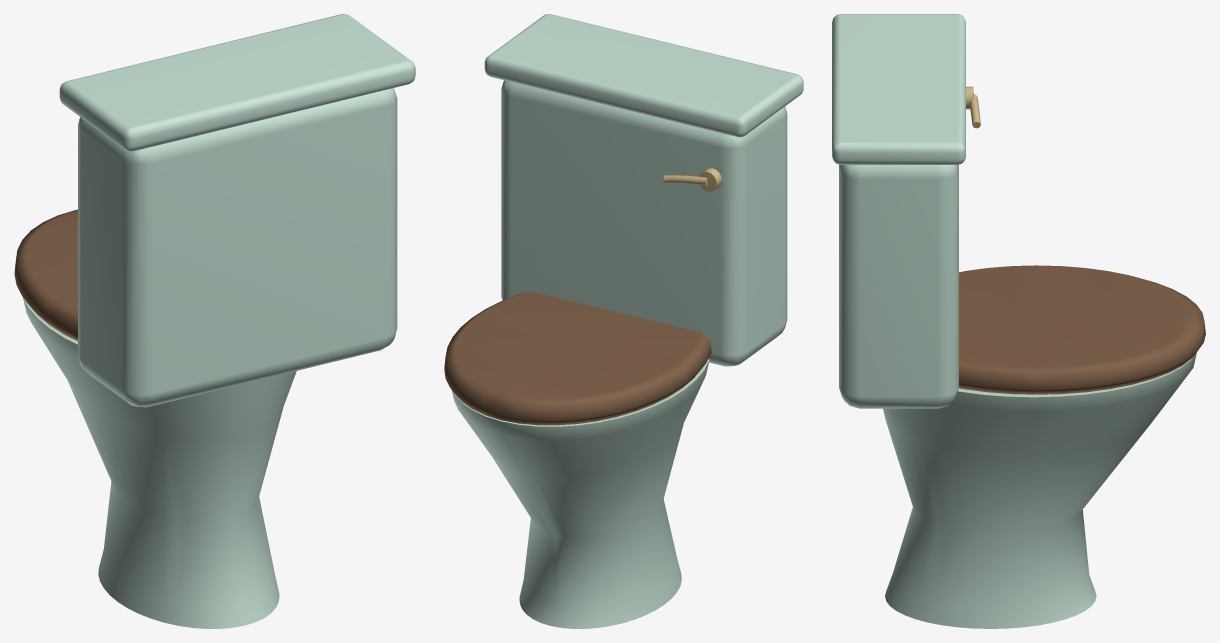
Rendered from lp_lavatory.glb.
3 views of the same model, side by side, from view 1: azimuth 30°, elevation 25°; view 2: azimuth 150°, elevation 25°; view 3: azimuth 270°, elevation 25° (orthographic). The views are drawn at different scales.
Visible parts, largest first — view 1: lp_lavatory; view 2: lp_lavatory; view 3: lp_lavatory.
Part boxes in pixels (<box>): lp_lavatory: <box>14,14,415,628</box>; lp_lavatory: <box>444,14,803,628</box>; lp_lavatory: <box>832,14,1205,628</box>.
Bounding box in the file's own units: 0.45 × 0.81 × 0.53.
